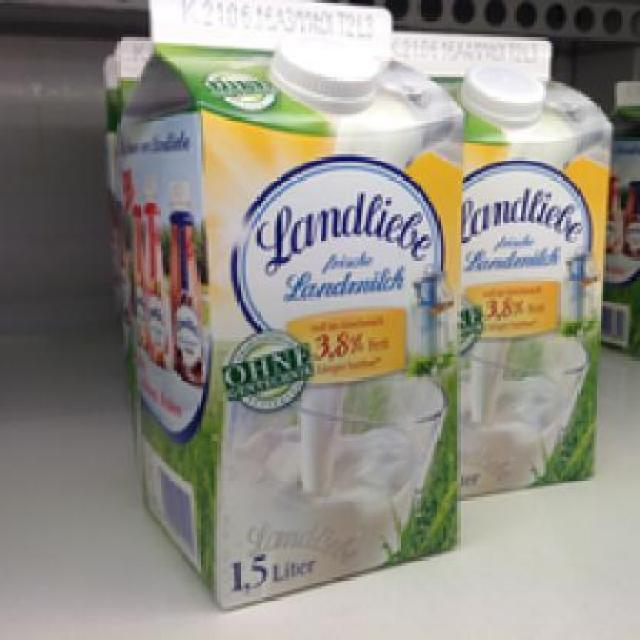Milk: (100, 0, 466, 606), (397, 32, 612, 494)
